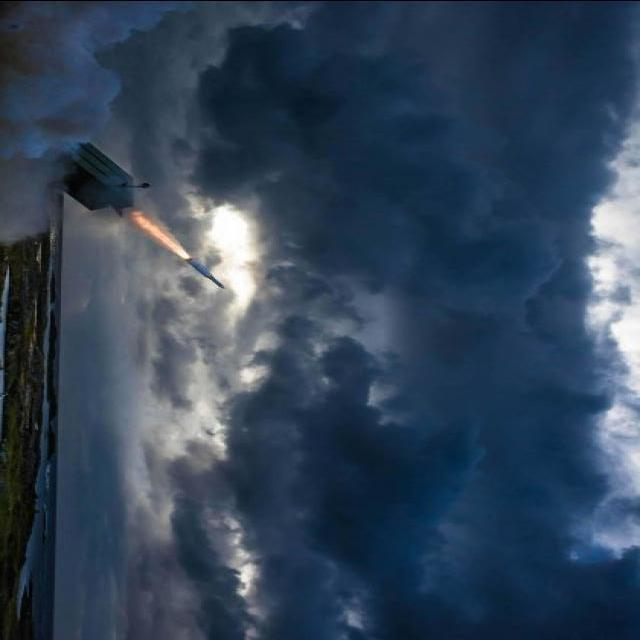missile: (185, 259, 225, 289)
